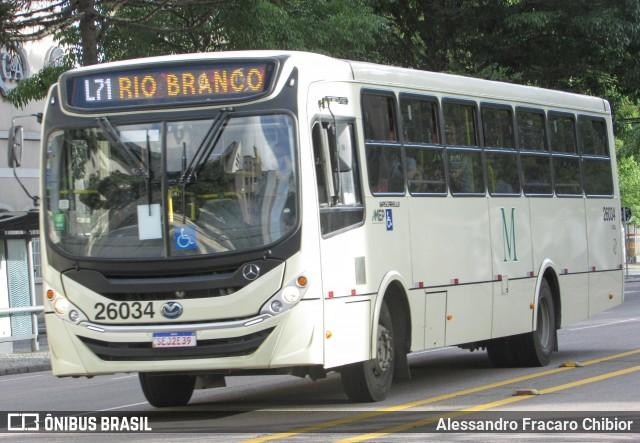RIO BRANCO: (114, 64, 268, 103)
